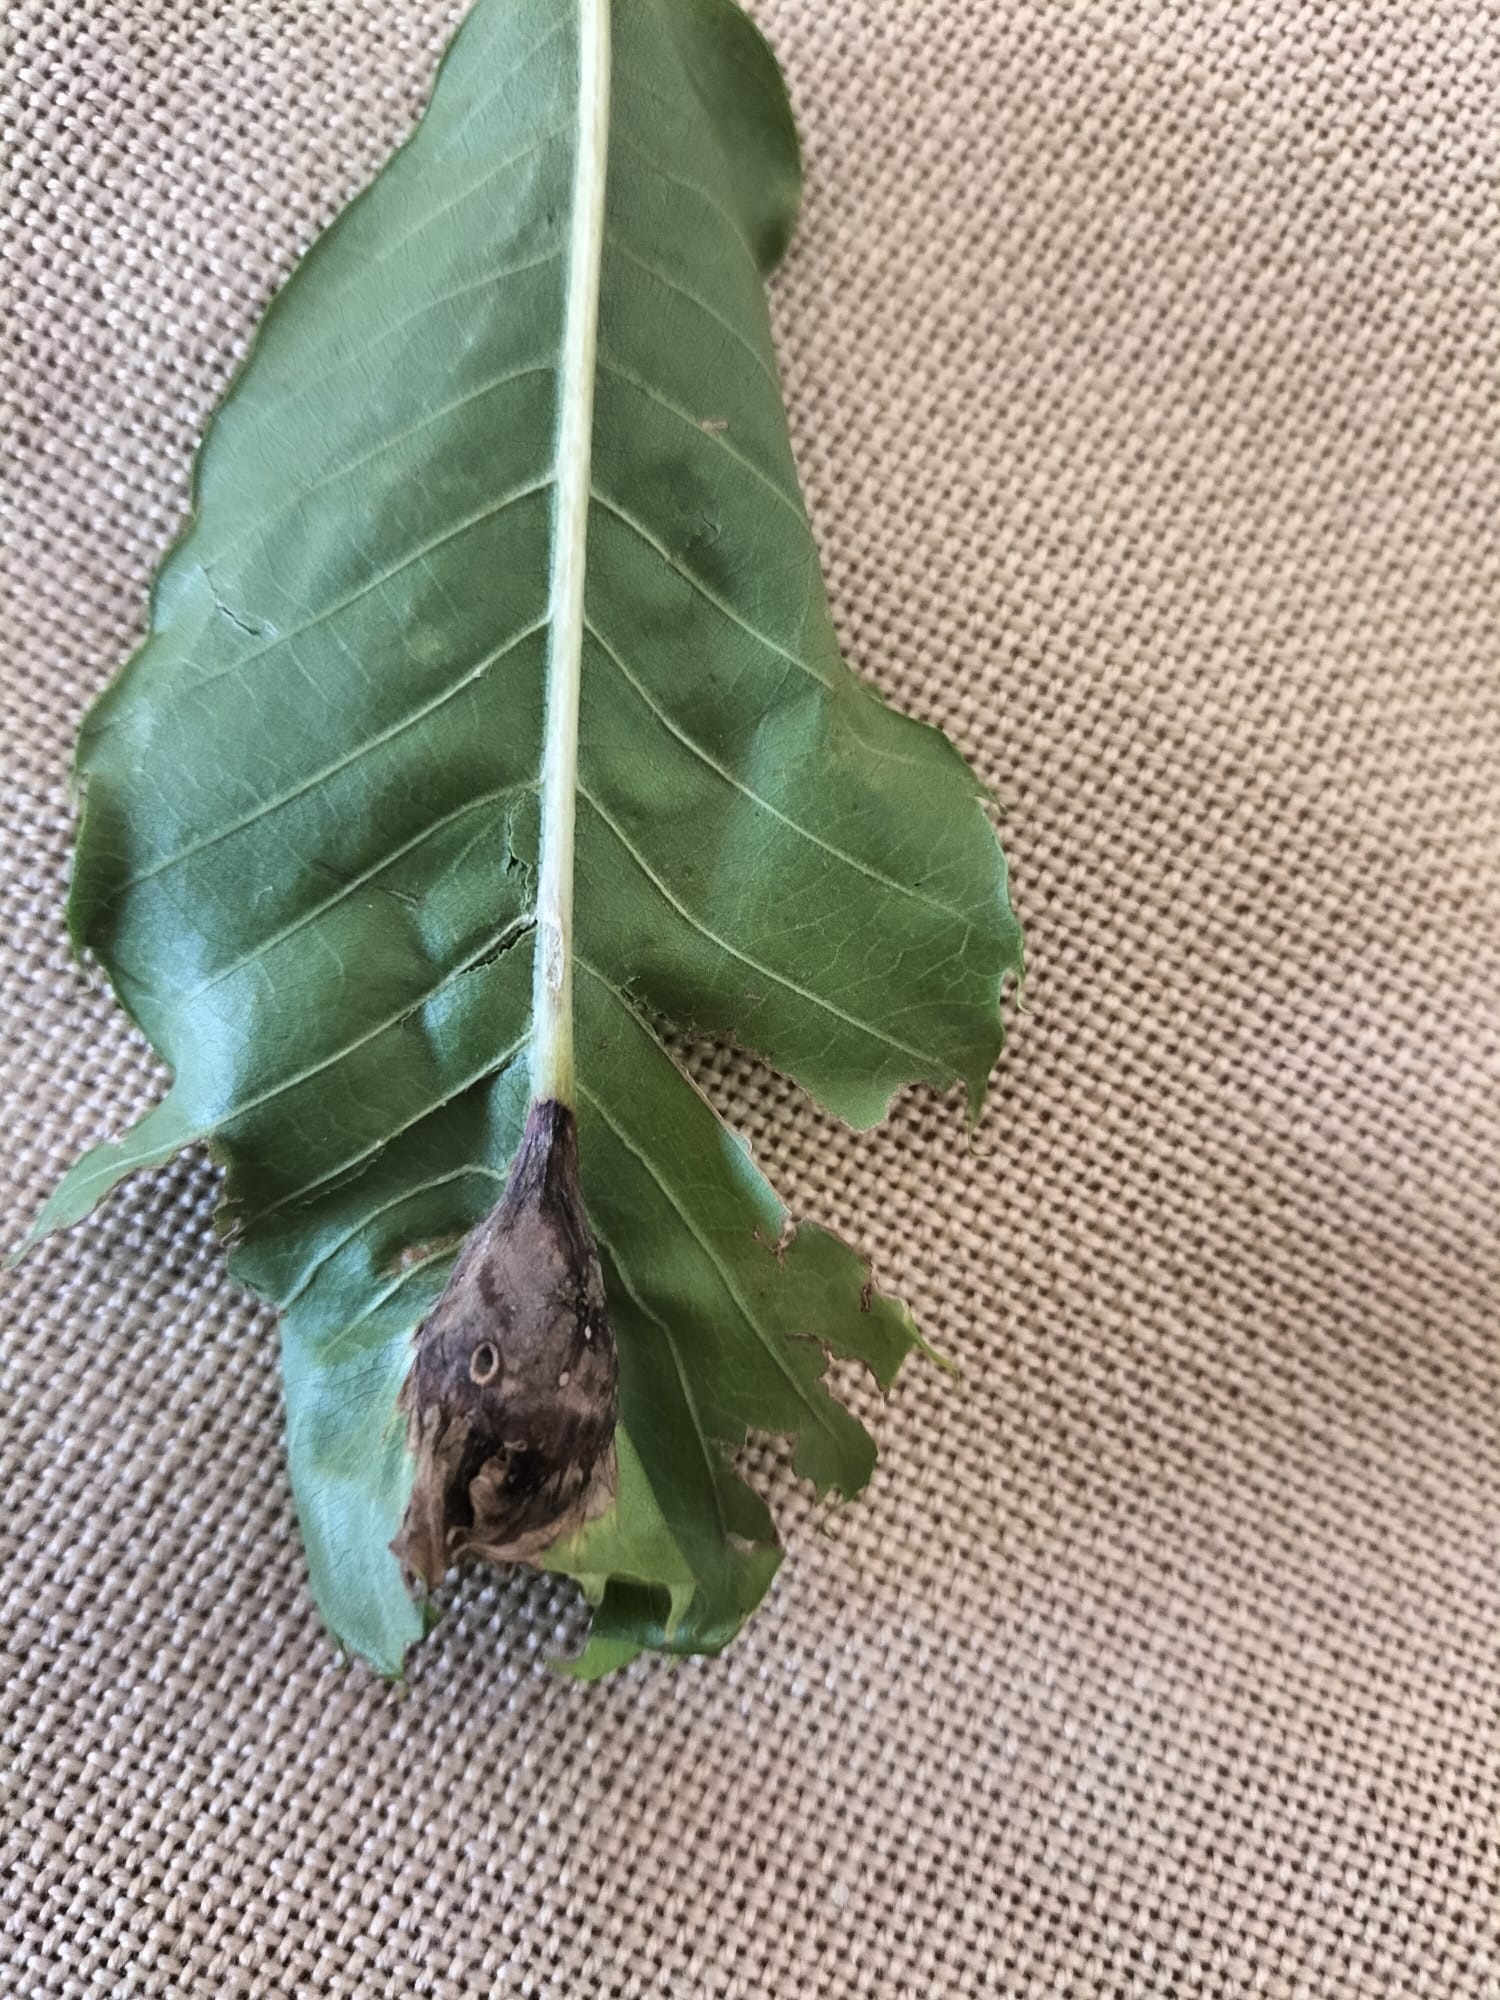galarisi: (320, 1063, 734, 1636)
